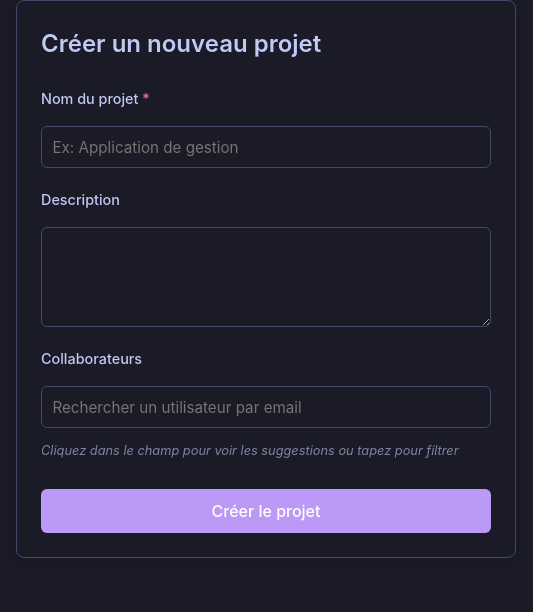
Test: CreateProjectForm › devrait valider la longueur minimale du nom (3 caractères)
The image size is (533, 612).
Type "ab" into the field named "projectName" at (266, 147), box [41,126,491,168]
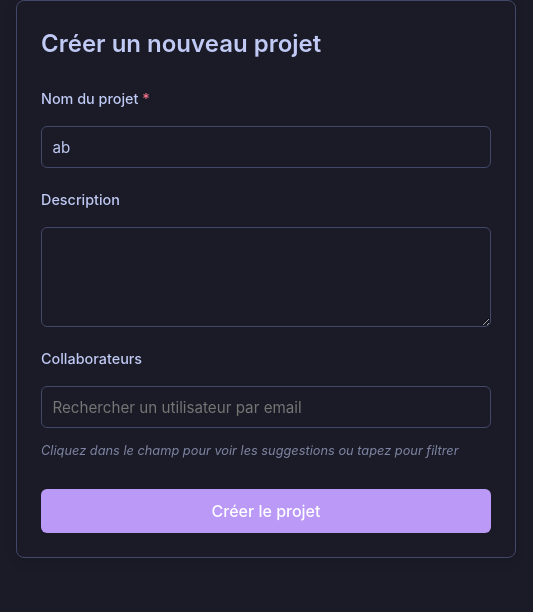
Submit the form
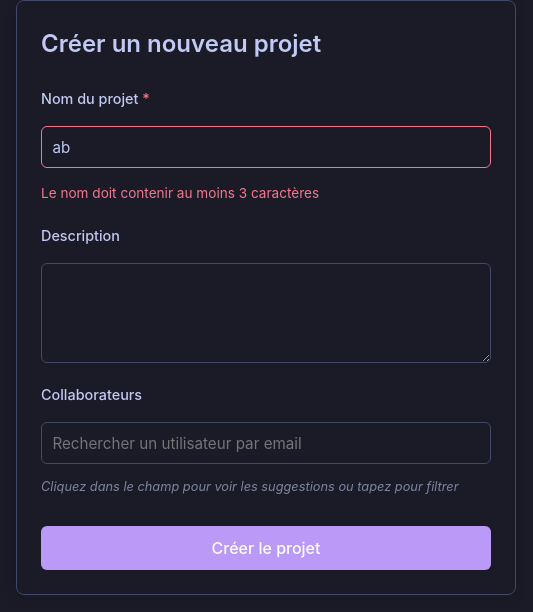
Expected: the form shows "caractères", [41,185,319,201]
